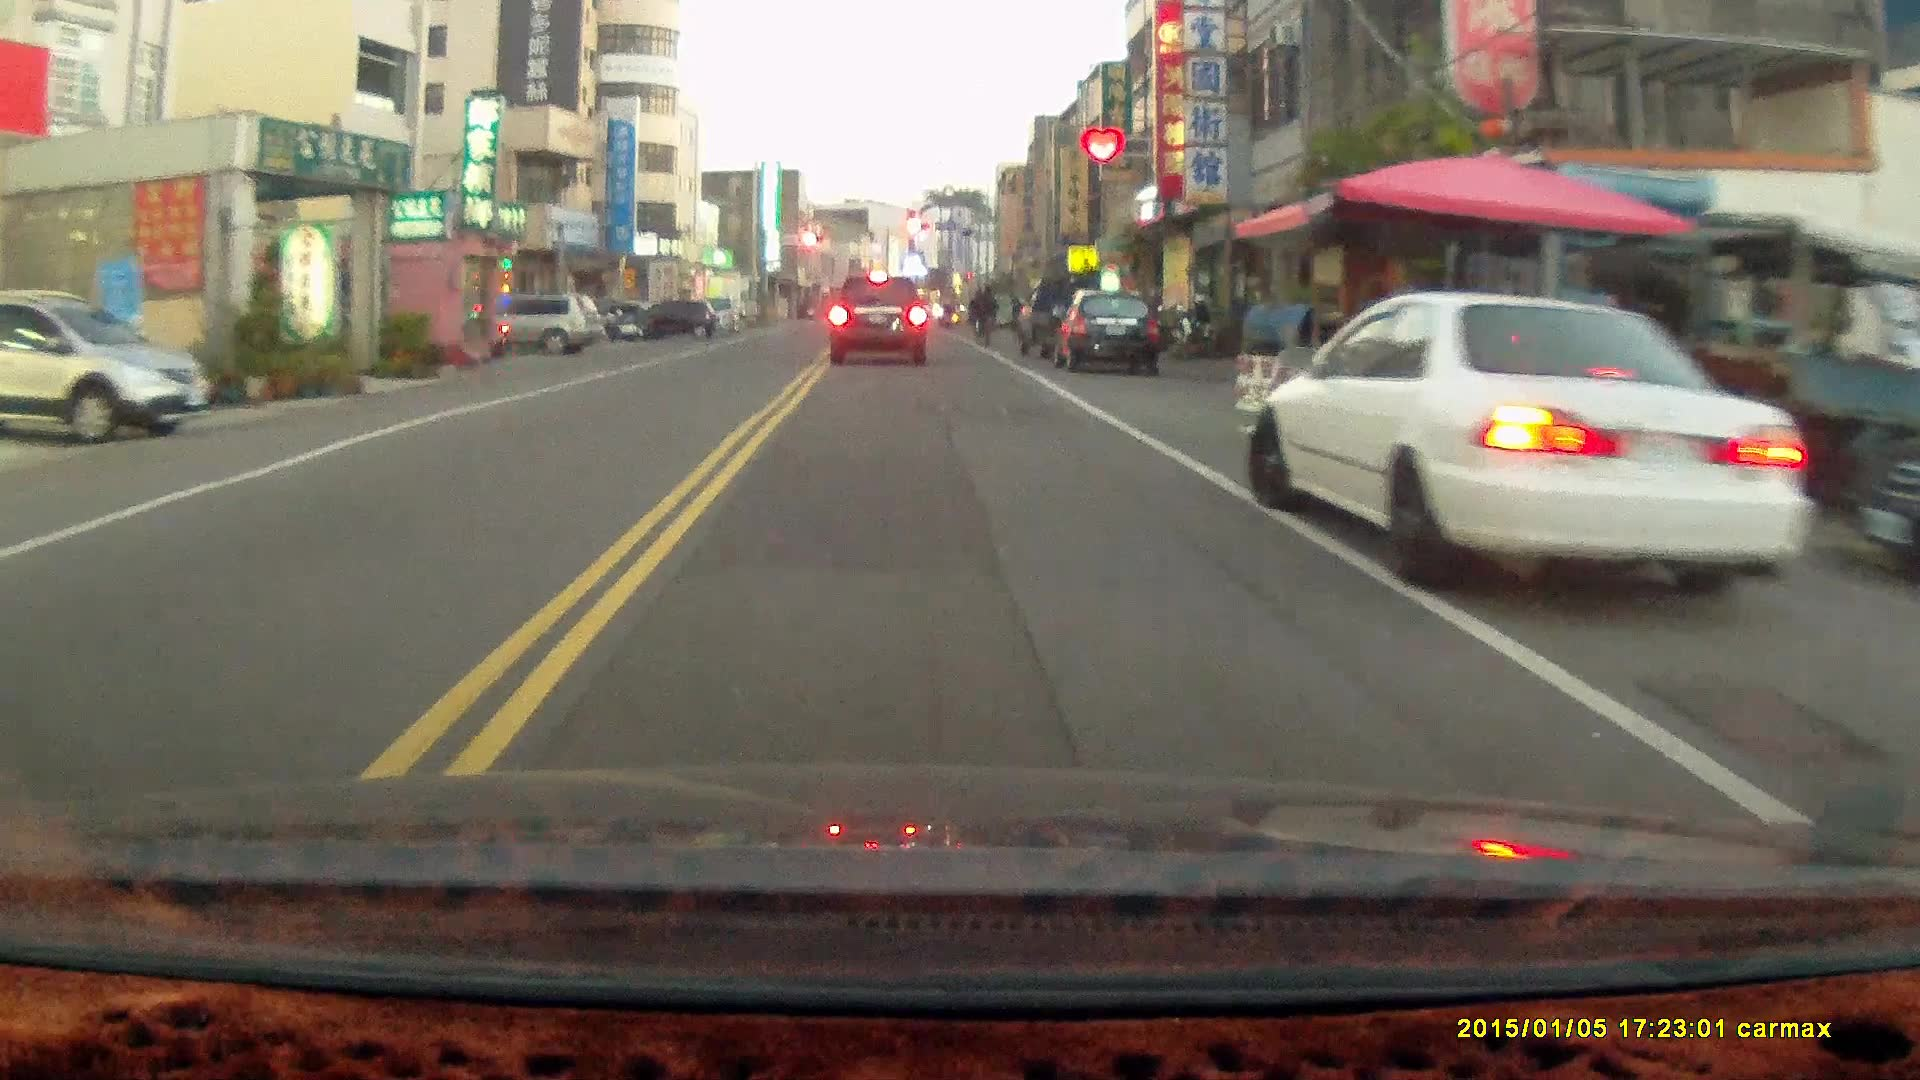rider: (971, 279, 1000, 347)
vehicle: (1251, 289, 1817, 588), (1, 289, 215, 447), (1052, 293, 1171, 380), (829, 274, 932, 370), (468, 293, 605, 355), (624, 296, 721, 342)
